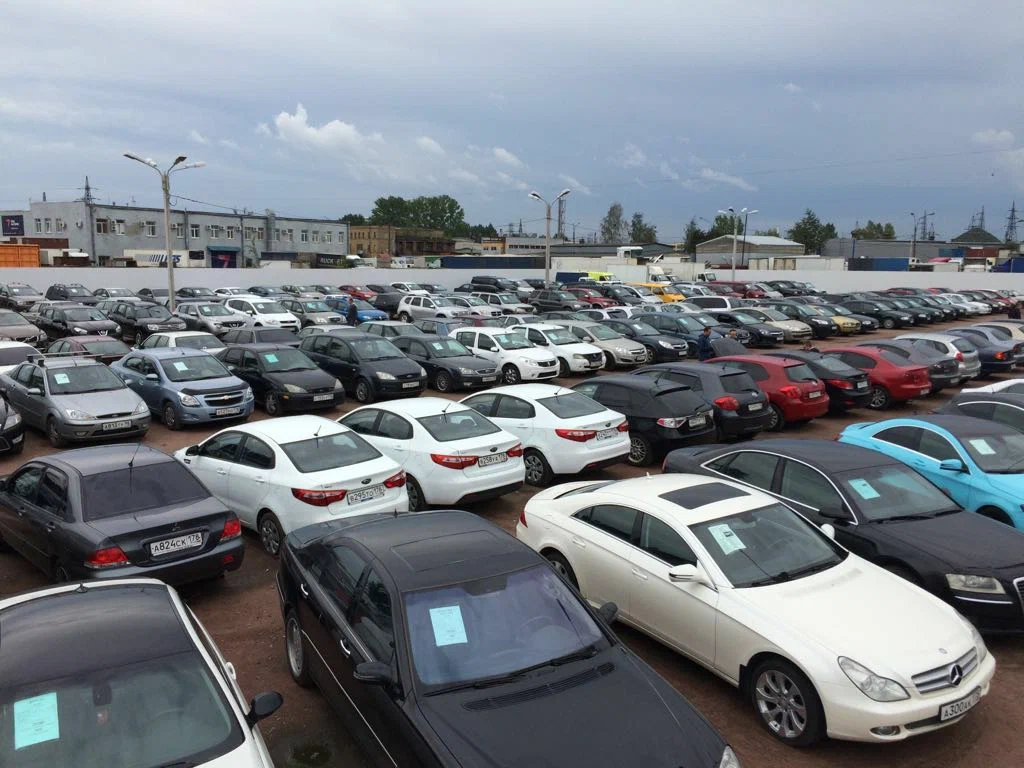Car: (516, 474, 996, 747), (276, 511, 741, 768), (663, 439, 1024, 634), (0, 578, 283, 768), (0, 444, 244, 584), (175, 417, 409, 555), (839, 414, 1024, 531), (338, 397, 525, 510), (457, 384, 631, 486), (0, 350, 152, 447), (568, 375, 715, 467), (108, 346, 255, 430), (634, 362, 771, 441), (699, 354, 829, 431), (214, 343, 345, 416), (297, 331, 428, 402), (387, 333, 503, 393), (824, 346, 931, 409), (766, 350, 872, 413), (447, 326, 561, 384), (852, 340, 962, 394), (506, 323, 607, 376), (544, 319, 648, 367), (892, 332, 982, 384), (628, 312, 723, 358), (594, 318, 690, 363), (928, 393, 1024, 434), (933, 331, 1018, 376), (106, 299, 187, 343), (33, 305, 123, 340), (699, 311, 785, 345), (943, 326, 1024, 362), (753, 301, 838, 335), (730, 307, 813, 341), (224, 297, 301, 333), (42, 335, 134, 365), (131, 330, 228, 355), (172, 302, 247, 333), (278, 297, 347, 329), (838, 300, 915, 328), (683, 313, 752, 344), (397, 293, 468, 323), (0, 308, 47, 350), (216, 326, 302, 348), (322, 295, 390, 322), (815, 304, 880, 331), (804, 305, 861, 335), (0, 388, 25, 453), (867, 298, 932, 323), (468, 292, 537, 315), (896, 296, 957, 321), (527, 289, 593, 312), (18, 300, 81, 323), (0, 341, 42, 375), (579, 285, 647, 306), (0, 281, 49, 310), (606, 263, 672, 284), (44, 283, 101, 307), (646, 263, 717, 282), (444, 295, 503, 317), (356, 320, 425, 338), (626, 282, 685, 303), (894, 298, 944, 322), (560, 288, 619, 308), (959, 378, 1024, 395), (941, 293, 993, 314), (614, 284, 664, 305), (969, 321, 1024, 340), (410, 317, 468, 335), (960, 290, 1012, 310), (367, 293, 406, 318), (296, 324, 360, 339), (711, 281, 766, 298), (925, 295, 967, 317), (682, 296, 742, 311), (936, 295, 980, 315), (176, 287, 227, 304), (957, 292, 1002, 311), (135, 287, 182, 305), (471, 276, 518, 293), (451, 315, 508, 328), (246, 286, 295, 301), (280, 284, 325, 300), (759, 281, 803, 297), (164, 298, 207, 314), (978, 289, 1018, 306), (538, 311, 597, 322), (338, 284, 378, 300), (92, 287, 141, 300), (575, 309, 626, 321), (498, 314, 547, 326), (703, 284, 744, 298), (212, 287, 261, 298), (605, 306, 646, 319), (390, 282, 430, 295), (417, 282, 454, 296), (777, 296, 831, 305), (663, 303, 706, 314), (675, 284, 714, 296), (753, 283, 783, 298), (556, 272, 596, 283), (523, 278, 559, 290), (633, 304, 681, 313), (998, 290, 1024, 306), (781, 281, 810, 295), (509, 280, 535, 295), (92, 300, 117, 315), (310, 284, 347, 294), (454, 284, 500, 292), (817, 294, 852, 304), (558, 281, 596, 290), (801, 282, 828, 294), (366, 284, 402, 293), (846, 291, 880, 300), (895, 288, 933, 296), (662, 267, 682, 282), (673, 286, 698, 298), (586, 272, 617, 281), (738, 299, 770, 307), (869, 290, 899, 298), (989, 319, 1024, 324), (668, 281, 708, 285), (889, 289, 914, 295), (924, 288, 944, 295), (596, 281, 624, 285), (937, 288, 956, 293)
